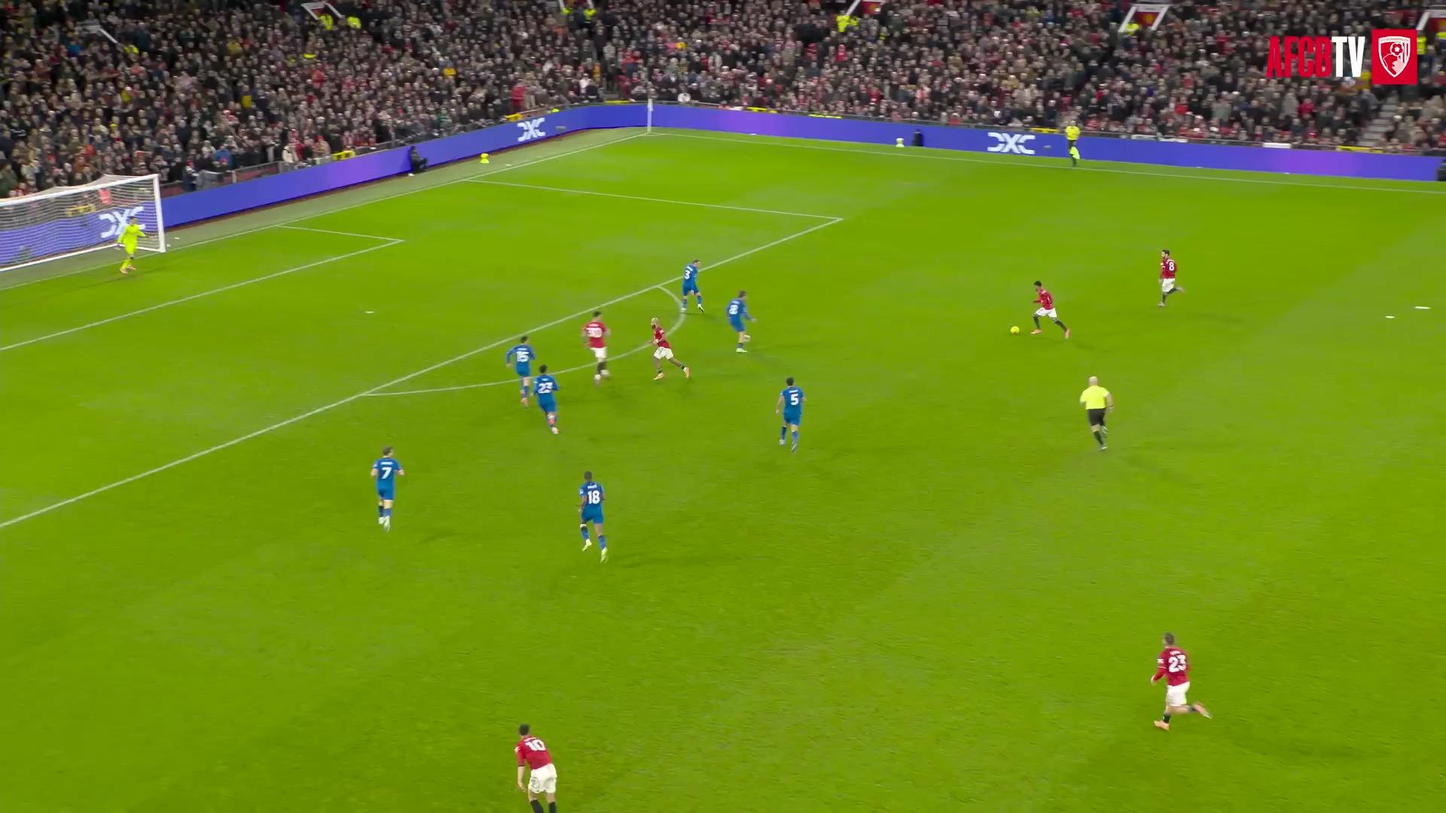football: (1010, 326, 1019, 333)
player: (1151, 632, 1210, 729), (514, 723, 555, 812), (371, 446, 404, 530), (579, 471, 607, 562), (651, 318, 690, 379), (1031, 281, 1069, 339), (776, 376, 805, 452), (505, 336, 535, 406), (582, 312, 609, 385), (532, 364, 558, 434), (726, 291, 755, 352), (116, 217, 145, 273), (1159, 250, 1184, 306), (682, 260, 703, 312)
referee: (1080, 376, 1113, 449), (1065, 123, 1080, 166)
